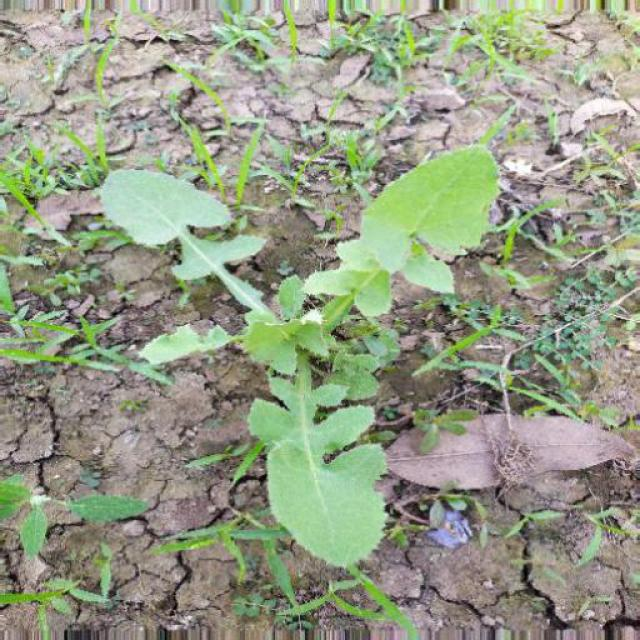weed: (86, 151, 535, 581)
